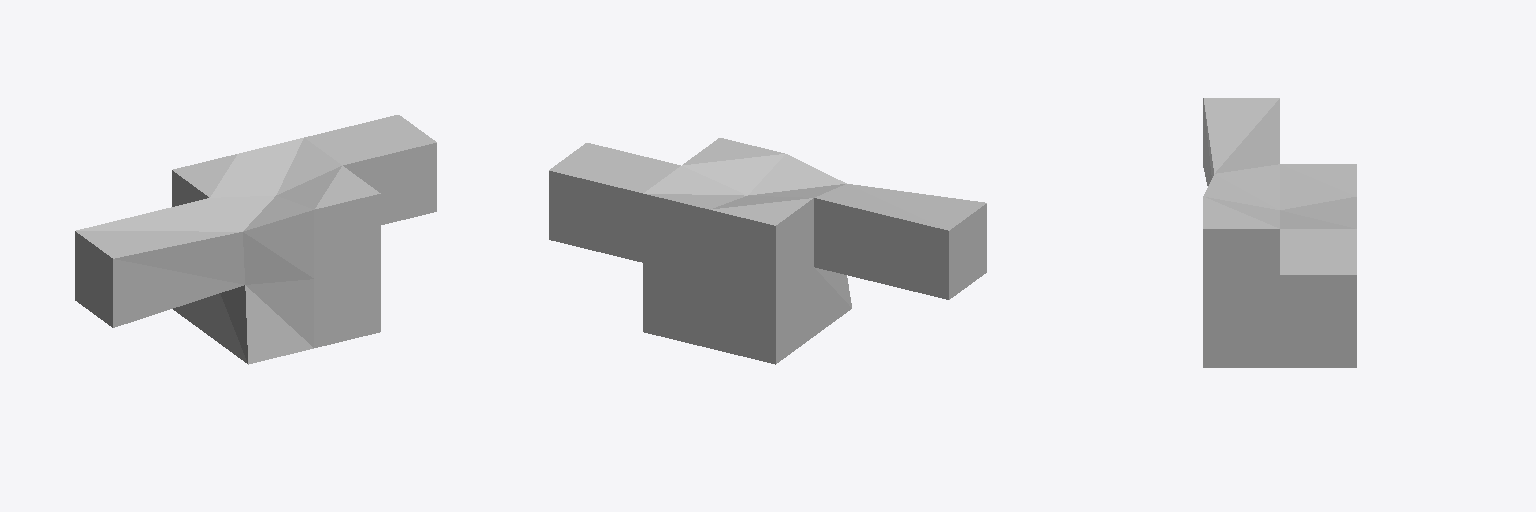
The model's file is simpleArtifact2.obj.
3 views of the same model, side by side, from view 1: azimuth 30°, elevation 25°; view 2: azimuth 150°, elevation 25°; view 3: azimuth 270°, elevation 25° (orthographic).
Visible parts, largest first — view 1: Cube_2; view 2: Cube_2; view 3: Cube_2.
Boxes of the visible parts, <box> form: Cube_2: <box>75,115,436,364</box>; Cube_2: <box>549,138,986,364</box>; Cube_2: <box>1203,98,1356,367</box>.
Size of the model in its own units: 5.47 by 2 by 2.